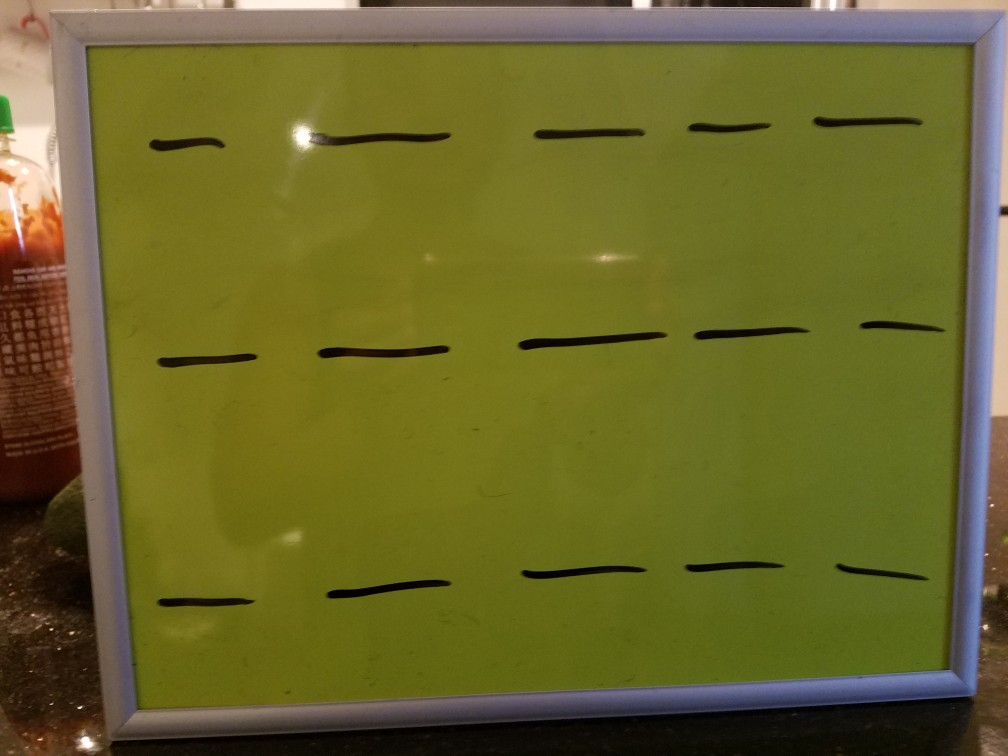-: (295, 115, 476, 176), (499, 316, 676, 373), (807, 85, 930, 159), (313, 321, 464, 381), (669, 530, 803, 595), (689, 303, 811, 363), (842, 294, 953, 356), (510, 546, 650, 594), (313, 564, 457, 610), (526, 110, 650, 163), (153, 327, 264, 386), (152, 575, 264, 627), (673, 101, 770, 159), (835, 551, 934, 599), (141, 120, 233, 165)
